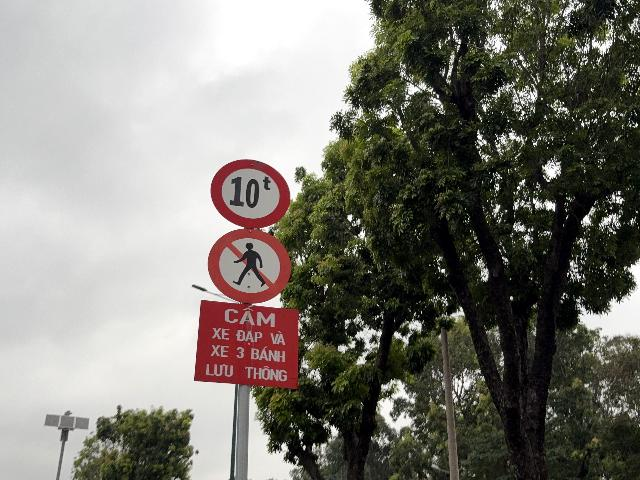cam-nguoi-di-bo: (207, 228, 291, 303)
han-che-trong-luong-xe: (210, 158, 290, 229)
